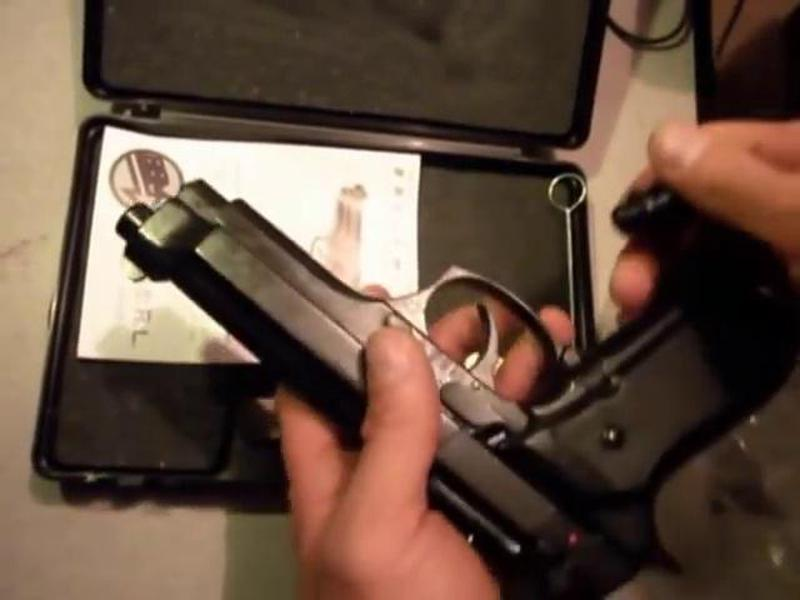Pistola: (102, 184, 800, 595)
